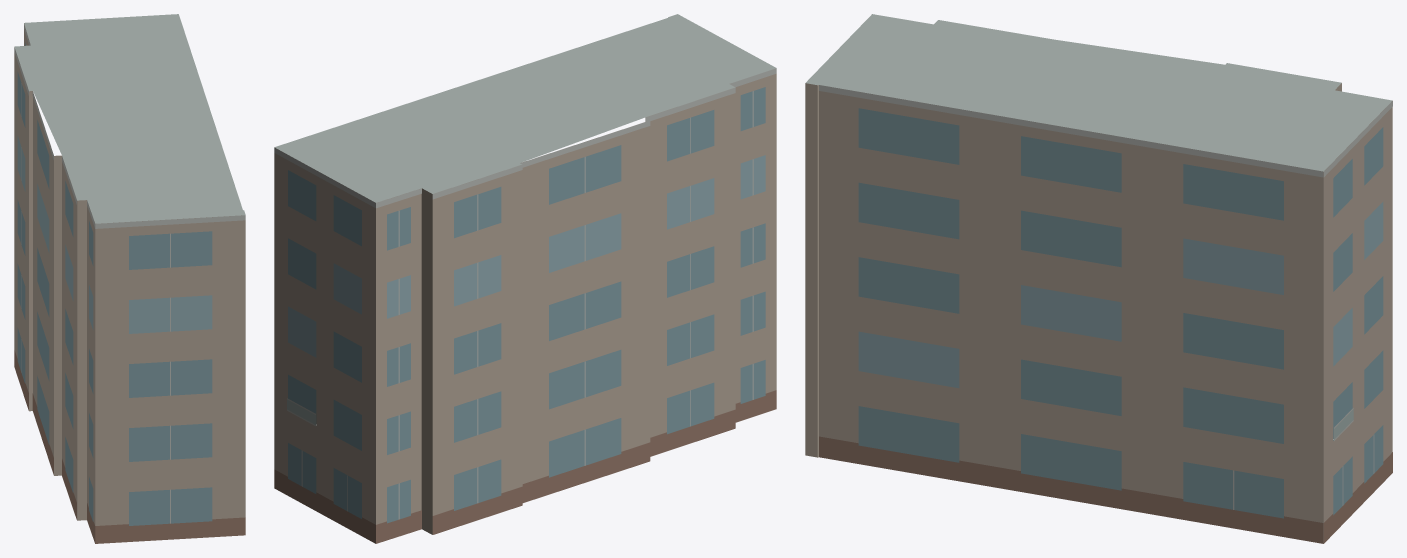
Rendered from survey-upis-32510055.glb.
3 renders of one model, left to right at view 1: azimuth 30°, elevation 25°; view 2: azimuth 150°, elevation 25°; view 3: azimuth 270°, elevation 25°, orthographic. The views are drawn at different scales.
Visible parts, largest first — view 1: survey-upis-32510055.tmp; view 2: survey-upis-32510055.tmp; view 3: survey-upis-32510055.tmp.
Part boxes in pixels (x1,y1,x2,y2): survey-upis-32510055.tmp: (14,14,245,543); survey-upis-32510055.tmp: (274,14,776,543); survey-upis-32510055.tmp: (805,14,1392,543).
Size of the model in its own units: 13.8 by 15.2 by 21.75.
